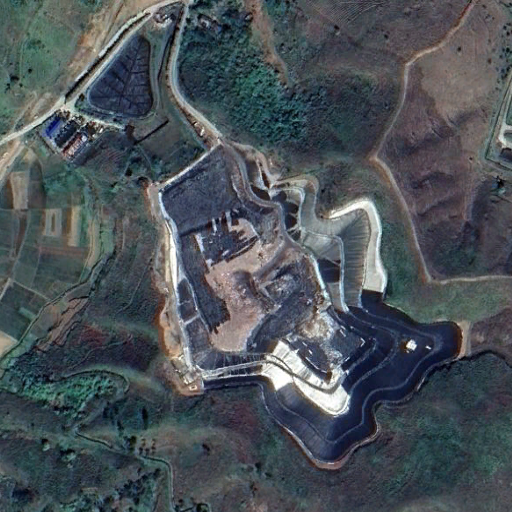lf: (160, 143, 468, 469)
